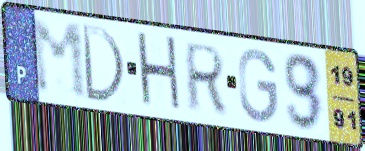9: (281, 51, 327, 135)
D: (79, 21, 128, 107)
G: (236, 46, 280, 126)
H: (134, 29, 184, 117)
M: (27, 18, 91, 103)
R: (184, 40, 228, 115)
